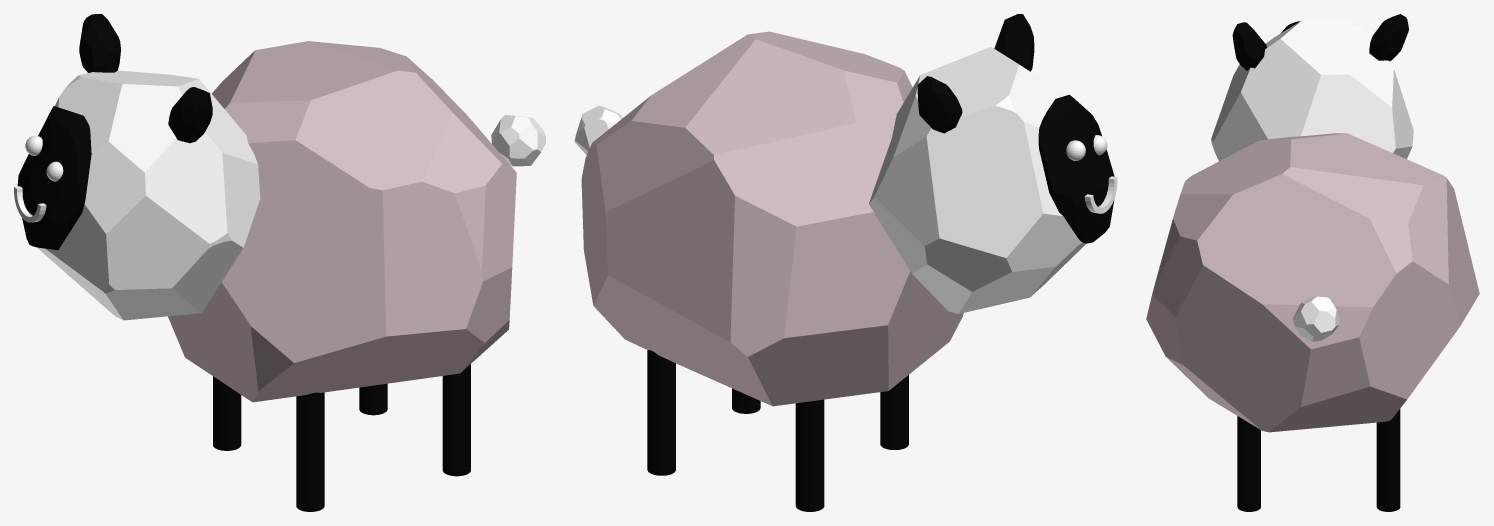
Rendered from shorn_sheep.glb.
3 views of the same model, side by side, from view 1: azimuth 30°, elevation 25°; view 2: azimuth 150°, elevation 25°; view 3: azimuth 270°, elevation 25° (orthographic). The views are drawn at different scales.
Parts seen in each view (by area): view 1: Body, Head, Head.002, Leg3, Leg4, Queue, Ear1, Leg2, Ear1.001, Leg1; view 2: Body, Head, Head.002, Leg1, Leg2, Ear1, Leg3, Ear1.001, Queue; view 3: Body, Head, Leg1, Leg4, Queue, Ear1, Ear1.001.
Part boxes in pixels (<box>): Body: <box>168,41,516,402</box>; Head: <box>37,70,260,320</box>; Head.002: <box>17,106,91,250</box>; Leg3: <box>296,392,324,511</box>; Leg4: <box>442,364,470,476</box>; Queue: <box>491,115,545,166</box>; Ear1: <box>79,14,120,72</box>; Leg2: <box>213,376,241,450</box>; Ear1.001: <box>168,87,212,143</box>; Leg1: <box>359,383,387,415</box>; Body: <box>581,31,963,406</box>; Head: <box>869,47,1085,313</box>; Head.002: <box>1038,94,1114,243</box>; Leg1: <box>647,350,675,475</box>; Leg2: <box>795,399,824,511</box>; Ear1: <box>917,76,962,133</box>; Leg3: <box>880,375,908,449</box>; Ear1.001: <box>994,14,1034,71</box>; Queue: <box>574,105,622,154</box>; Body: <box>1146,133,1479,432</box>; Head: <box>1211,19,1413,161</box>; Leg1: <box>1376,409,1400,511</box>; Leg4: <box>1237,416,1260,511</box>; Queue: <box>1293,296,1339,341</box>; Ear1: <box>1369,14,1408,61</box>; Ear1.001: <box>1232,22,1266,70</box>.
Bounding box in the file's own units: 2.12 × 1.78 × 1.41.
